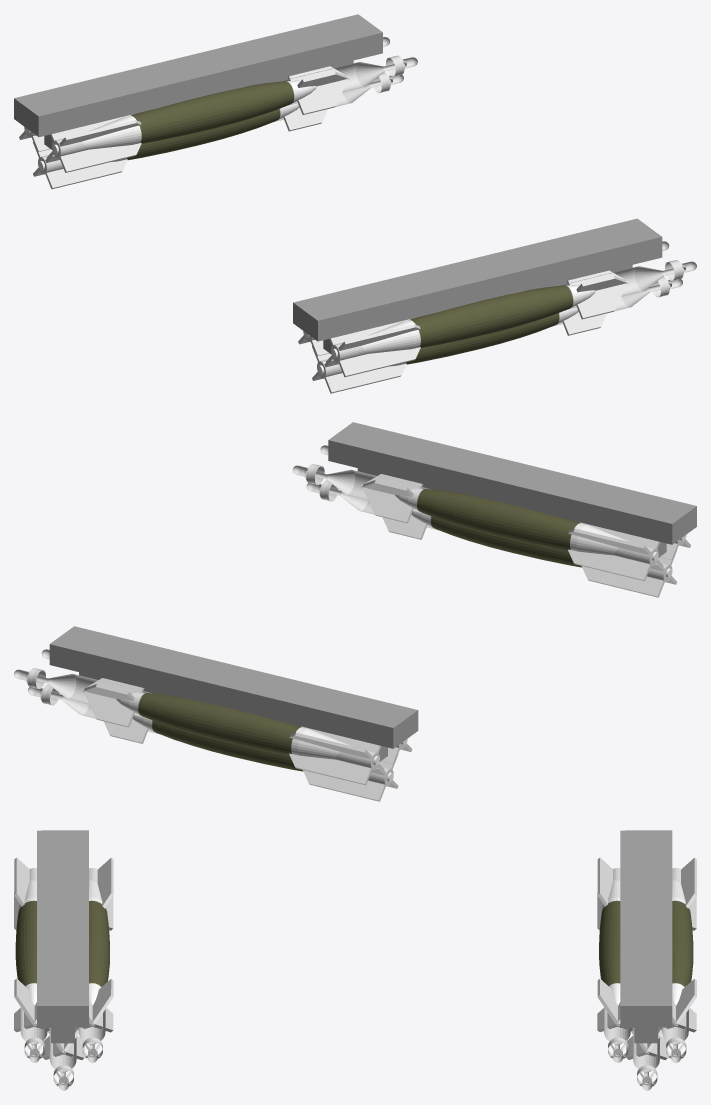
The model's file is f15cgbu1213.glb.
The picture shows the model from 3 angles, top to bottom: view 1: azimuth 30°, elevation 25°; view 2: azimuth 150°, elevation 25°; view 3: azimuth 270°, elevation 25°; orthographic projection. The views are drawn at different scales.
Parts seen in each view (by area): view 1: 立方体.014, 立方体.010, 円柱.013, 円柱.007, 円柱.006, 円柱.009; view 2: 立方体.010, 立方体.014, 円柱.003, 円柱.008, 円柱.006, 円柱.009; view 3: 立方体.010, 立方体.014, 円柱.008, 円柱.003, 円柱.007, 円柱.013, 円柱.009, 円柱.006.
Boxes of the visible parts, box(x1,y1,x2,y2) form: 立方体.014: box(293, 218, 662, 353); 立方体.010: box(14, 14, 382, 149); 円柱.013: box(326, 260, 696, 377); 円柱.007: box(47, 55, 417, 172); 円柱.006: box(312, 276, 682, 393); 円柱.009: box(33, 72, 403, 189); 立方体.010: box(49, 626, 418, 761); 立方体.014: box(328, 422, 696, 557); 円柱.003: box(292, 464, 663, 581); 円柱.008: box(14, 668, 384, 785); 円柱.006: box(306, 480, 676, 597); 円柱.009: box(27, 684, 398, 801); 立方体.010: box(620, 830, 672, 1043); 立方体.014: box(37, 830, 88, 1043); 円柱.008: box(658, 857, 696, 1062); 円柱.003: box(75, 857, 113, 1062); 円柱.007: box(597, 857, 634, 1062); 円柱.013: box(14, 857, 50, 1062); 円柱.009: box(626, 1029, 667, 1090); 円柱.006: box(43, 1029, 84, 1090).
Bounding box in the file's own units: 4.14 × 0.8418 × 6.2.
Materials: 3 (1 with a texture image).
